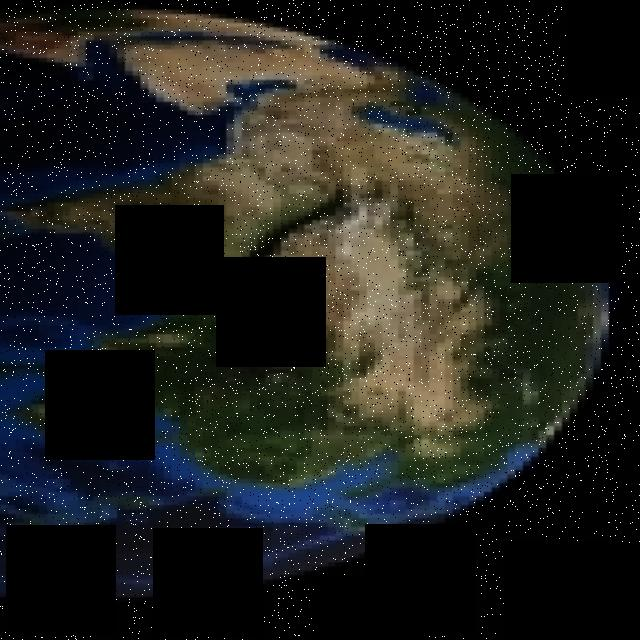Earth: (0, 9, 609, 596)
